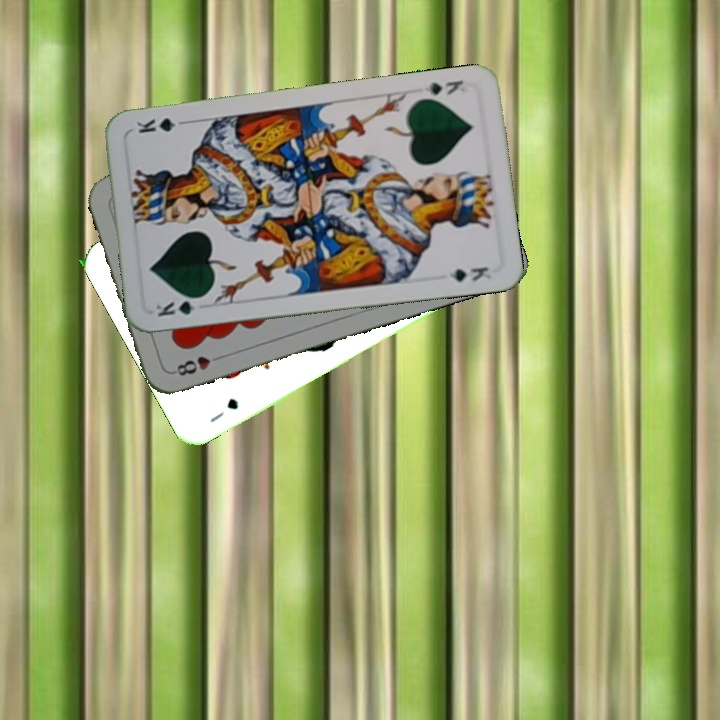GK: (151, 292, 208, 319), (420, 76, 468, 98)
GU: (206, 394, 241, 426)
H8: (168, 351, 226, 379)
